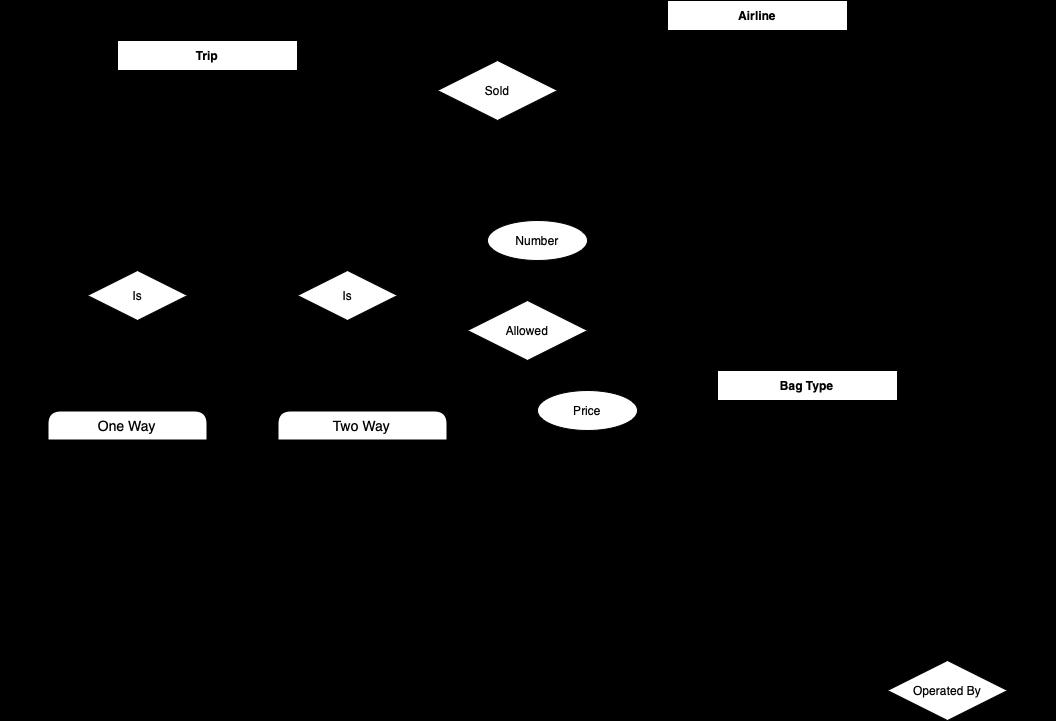attribute: (536, 391, 637, 431), (489, 221, 585, 261)
entity: (715, 370, 902, 631), (668, 1, 849, 239), (278, 407, 449, 657), (49, 413, 207, 662), (116, 41, 299, 220)
relationship: (430, 62, 559, 121), (467, 301, 588, 361), (891, 661, 1005, 721), (299, 271, 400, 322), (89, 271, 188, 321)
